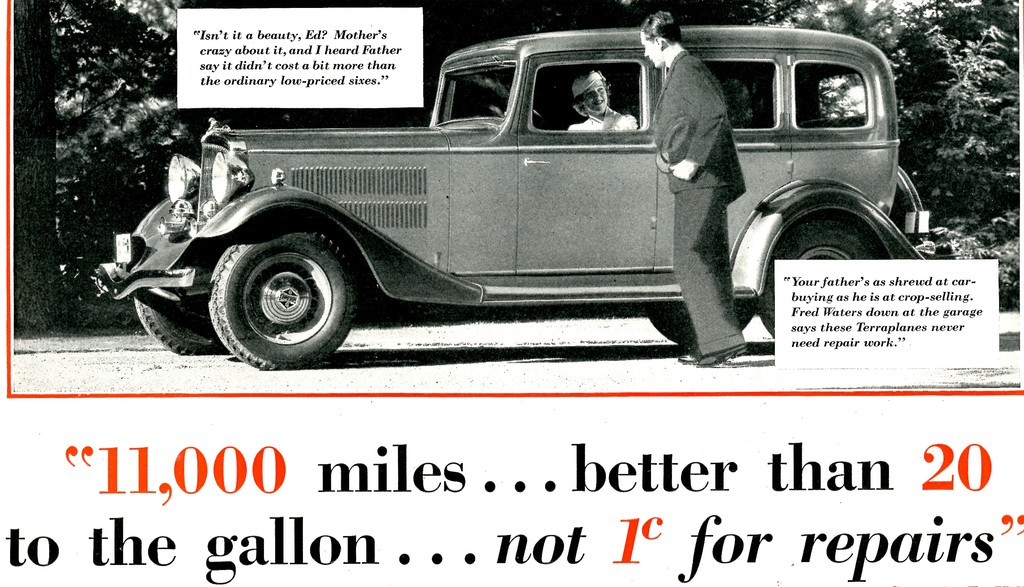Car: (94, 19, 927, 374)
